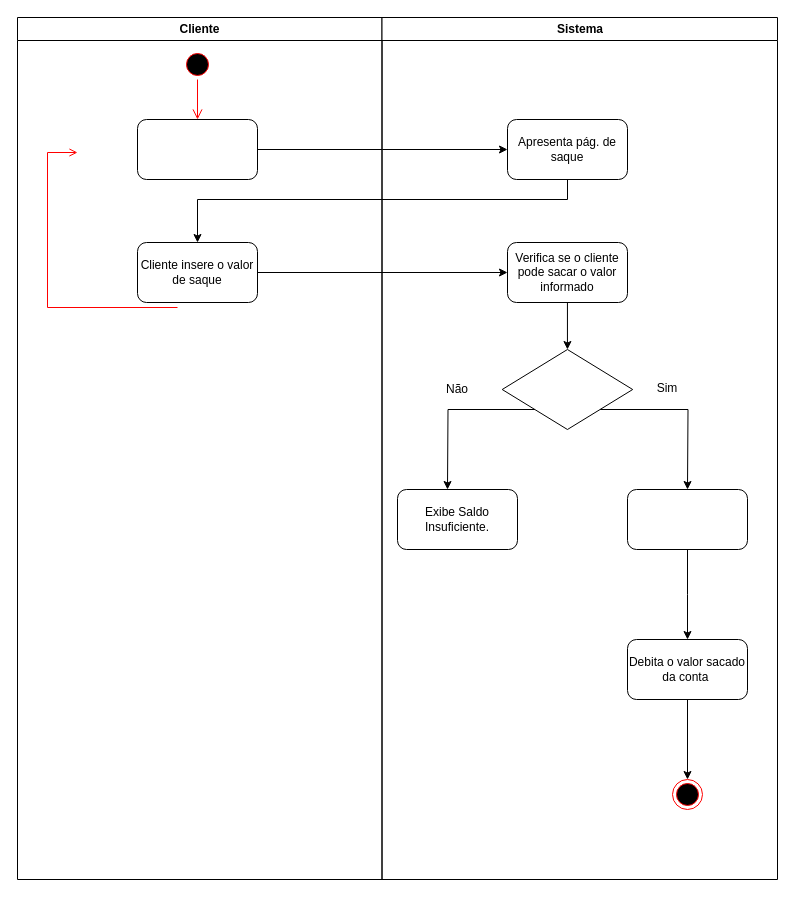
Some shapes in this 795 by 897 pixel diagram are drawn without their labels. Each missing label, with the box of its shape:
Cliente insere a opção de saque: (136, 118, 258, 180)
LIbera o dinheiro: (626, 488, 748, 550)
Saldo disponível?: (501, 348, 633, 430)
